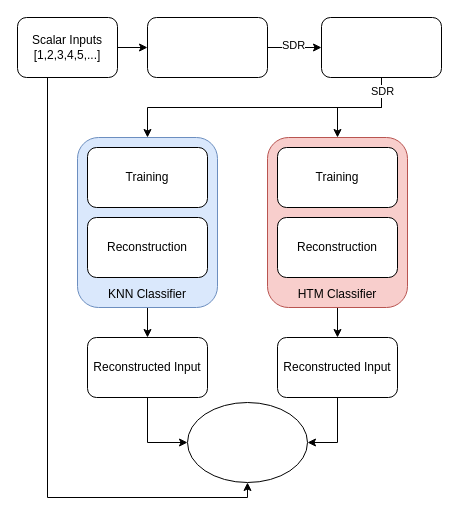
This 459x523 diagram has some shape labels left out. The shapes that lost their labels are listed below. From the top down, each one's centre as x and y in pixels, then its label:
At pixel 207 47: "Scalar Encoder".
At pixel 381 47: "Spatial Pooler".
At pixel 247 442: "Comparison".
